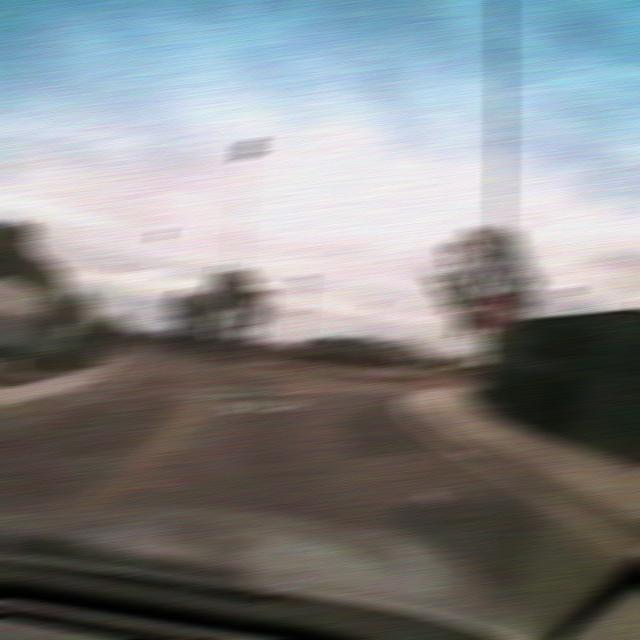stop: (478, 293, 516, 330)
